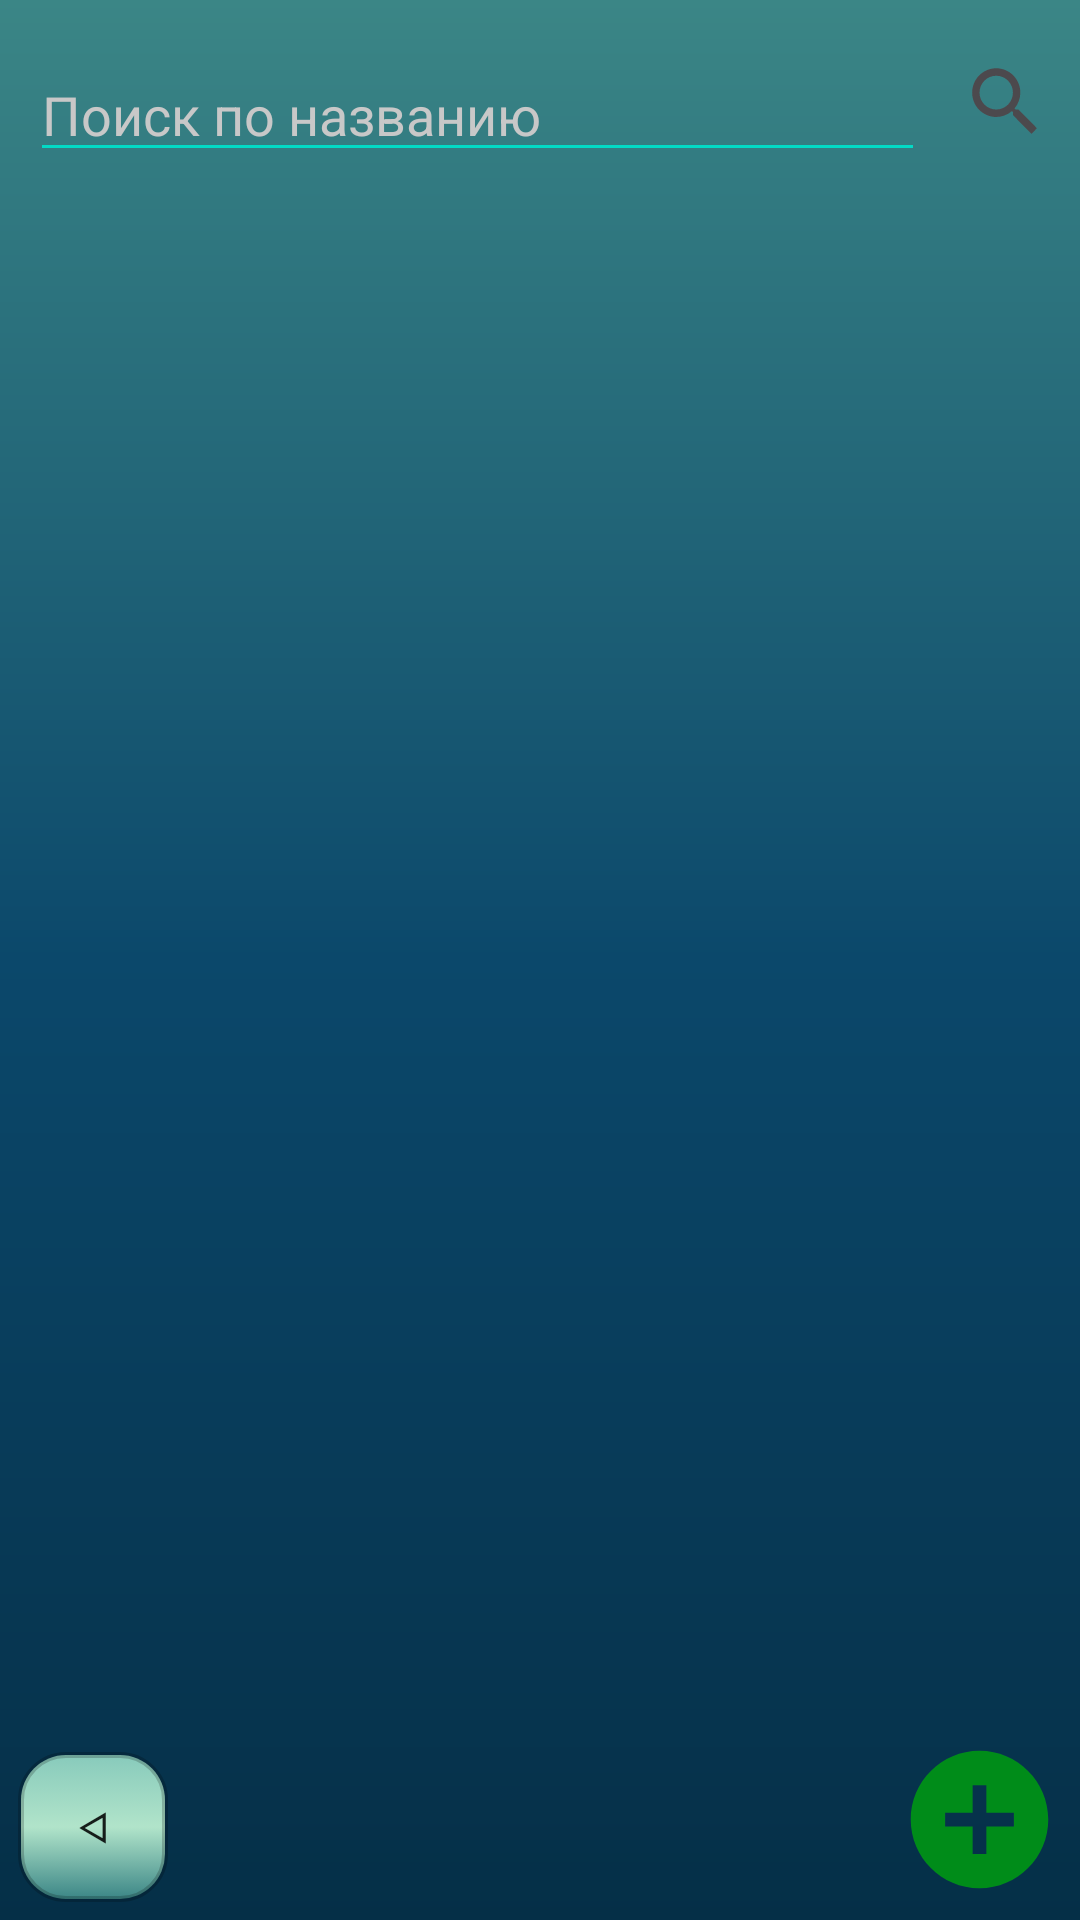

Screen size 1080px x 1920px. Icon name, then its box in pixels as detection(x1, y1, x2, y2):
add circle: detection(911, 1751, 1048, 1888)
search: detection(972, 68, 1037, 134)
